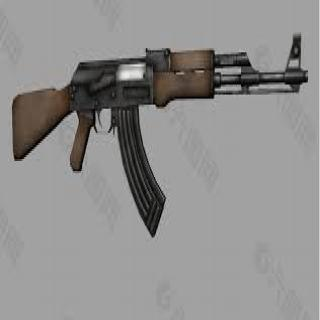gun: (4, 34, 306, 216)
